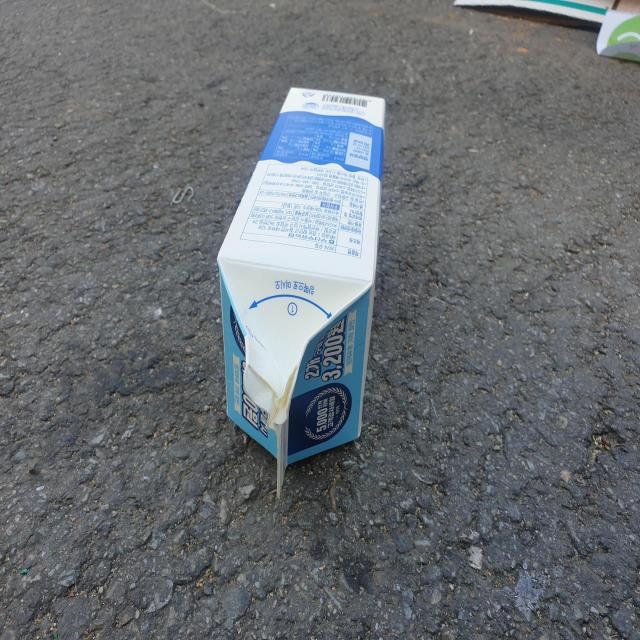paperpack: (218, 87, 385, 498)
